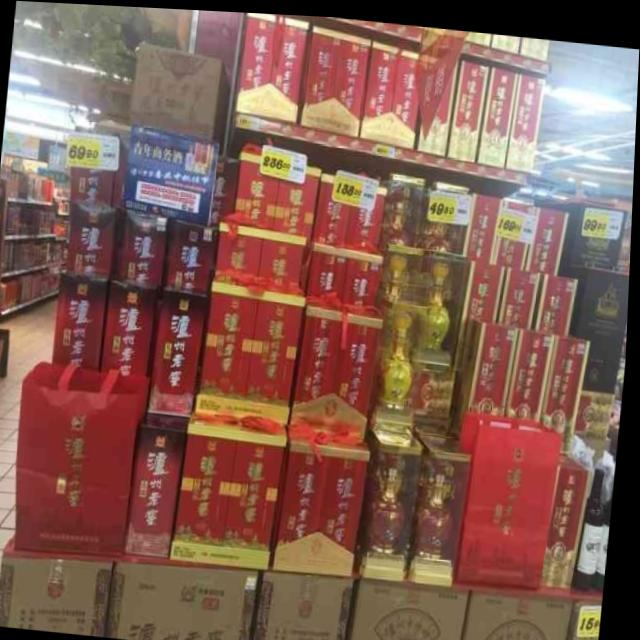box: (19, 359, 152, 560), (173, 410, 291, 567), (460, 407, 565, 581), (199, 280, 309, 423), (278, 422, 375, 573), (293, 293, 385, 432), (110, 561, 263, 640), (1, 538, 118, 636), (133, 42, 231, 139), (123, 125, 223, 220), (130, 410, 193, 554), (561, 261, 632, 386), (234, 10, 310, 121), (296, 22, 372, 133), (456, 311, 521, 434), (151, 282, 211, 415), (355, 578, 475, 640), (256, 570, 359, 640), (216, 219, 314, 292), (545, 445, 597, 581), (359, 37, 421, 145), (55, 269, 115, 370), (467, 586, 578, 640), (104, 275, 163, 376), (456, 255, 506, 365), (546, 329, 592, 447), (71, 123, 130, 206), (223, 149, 283, 228), (309, 239, 385, 301), (561, 197, 627, 268), (115, 207, 172, 285), (509, 324, 557, 415), (478, 59, 519, 163), (67, 198, 122, 275), (449, 55, 489, 158), (507, 67, 547, 170), (163, 218, 218, 290), (418, 59, 458, 152), (275, 161, 323, 236), (526, 201, 571, 270), (347, 182, 390, 251), (535, 267, 581, 329), (314, 171, 352, 244), (502, 261, 543, 327), (466, 189, 503, 258), (579, 383, 618, 433), (571, 589, 608, 640), (495, 230, 531, 266), (520, 31, 551, 55), (491, 29, 521, 50), (466, 27, 494, 43)
